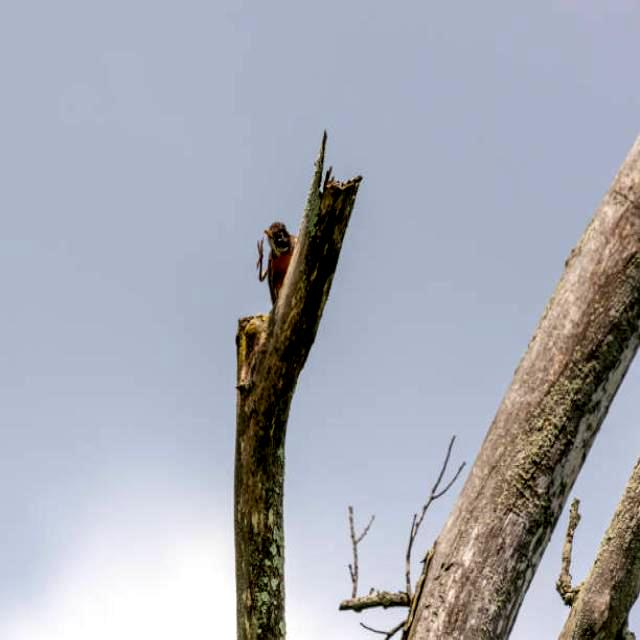Broken Pole: (168, 106, 368, 640)
